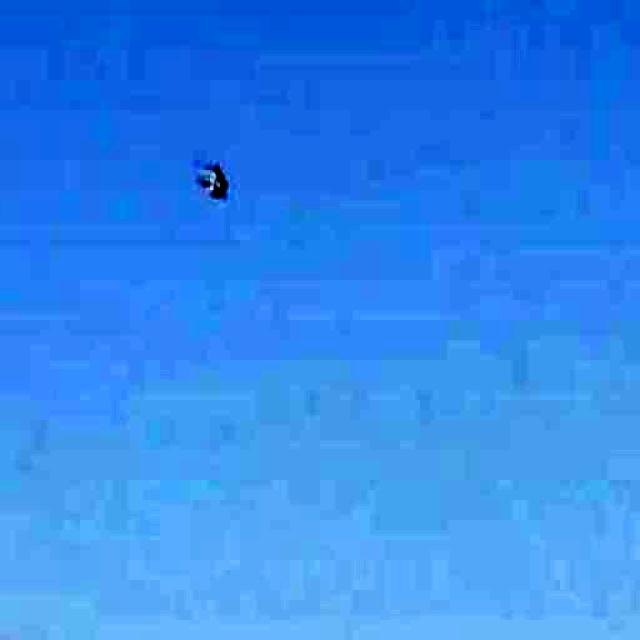drone: (169, 134, 269, 218)
